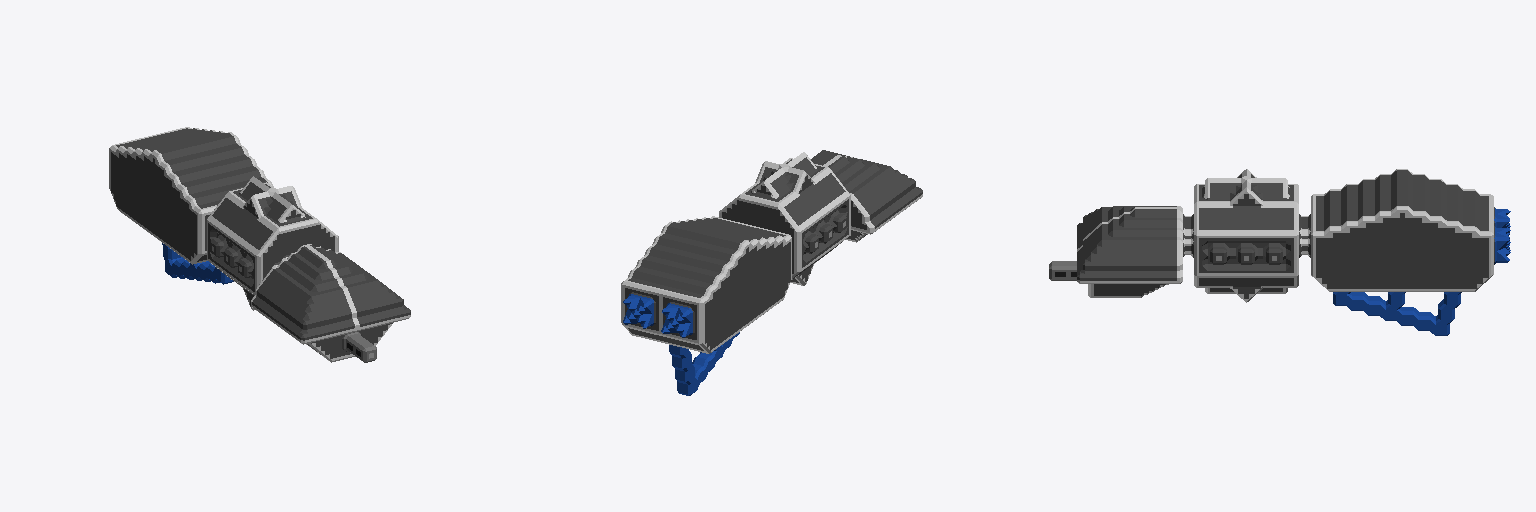
3 renders of one model, left to right at view 1: azimuth 30°, elevation 25°; view 2: azimuth 150°, elevation 25°; view 3: azimuth 270°, elevation 25°, orthographic.
Size of the model in its own units: 23 by 31 by 83.
Materials: 1 (1 with a texture image).